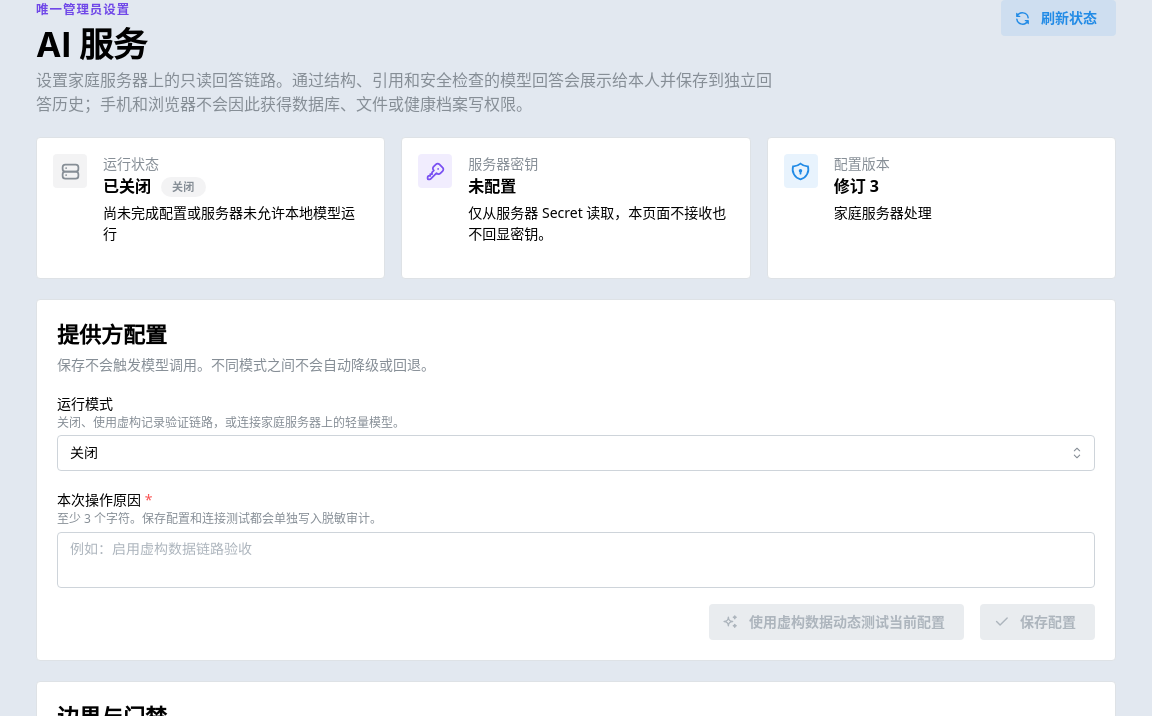
it: AdminHealthAiSettingsPage › saves a local provider by optimistic revision and reason
The width and height of the screenshot is (1152, 716).
Expected: the heading "AI 服务" is shown, [36,24,147,65]
Select "家庭服务器模型" in the dropdown labelled "运行模式": (576, 453) [57,435,1095,471]
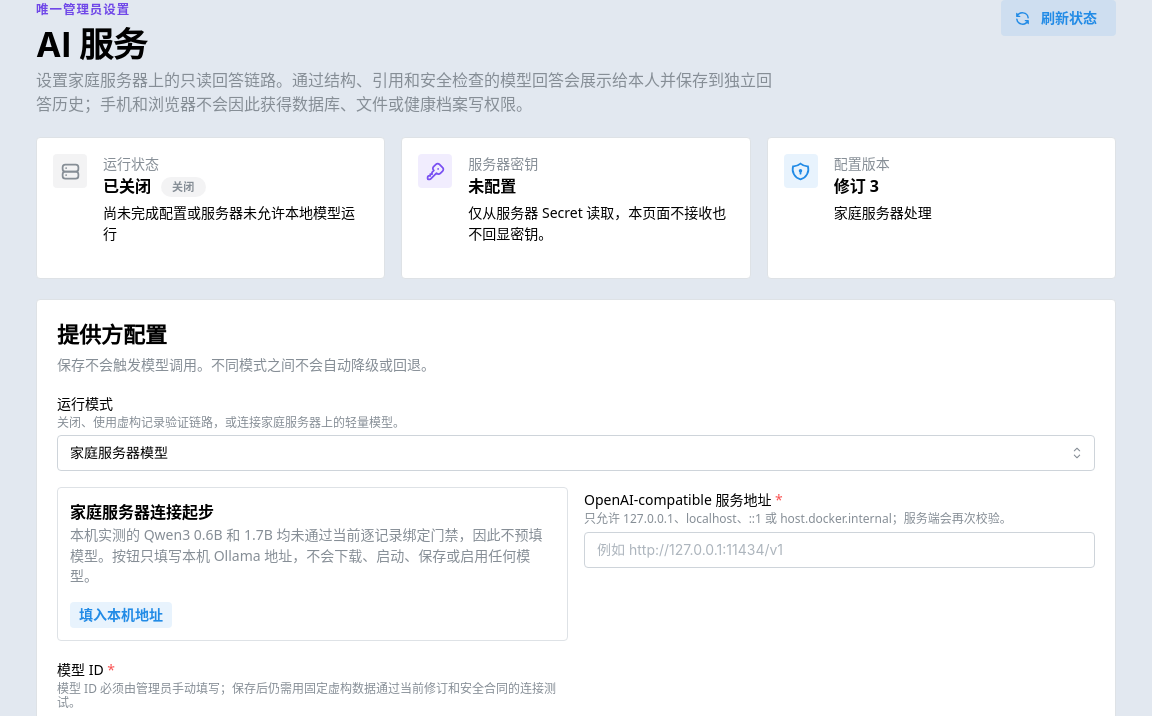
In the field labelled "OpenAI-compatible 服务地址 *": (840, 550) [584,532,1095,568], type "http://127.0.0.1:11434/v1"
(page scrolled)
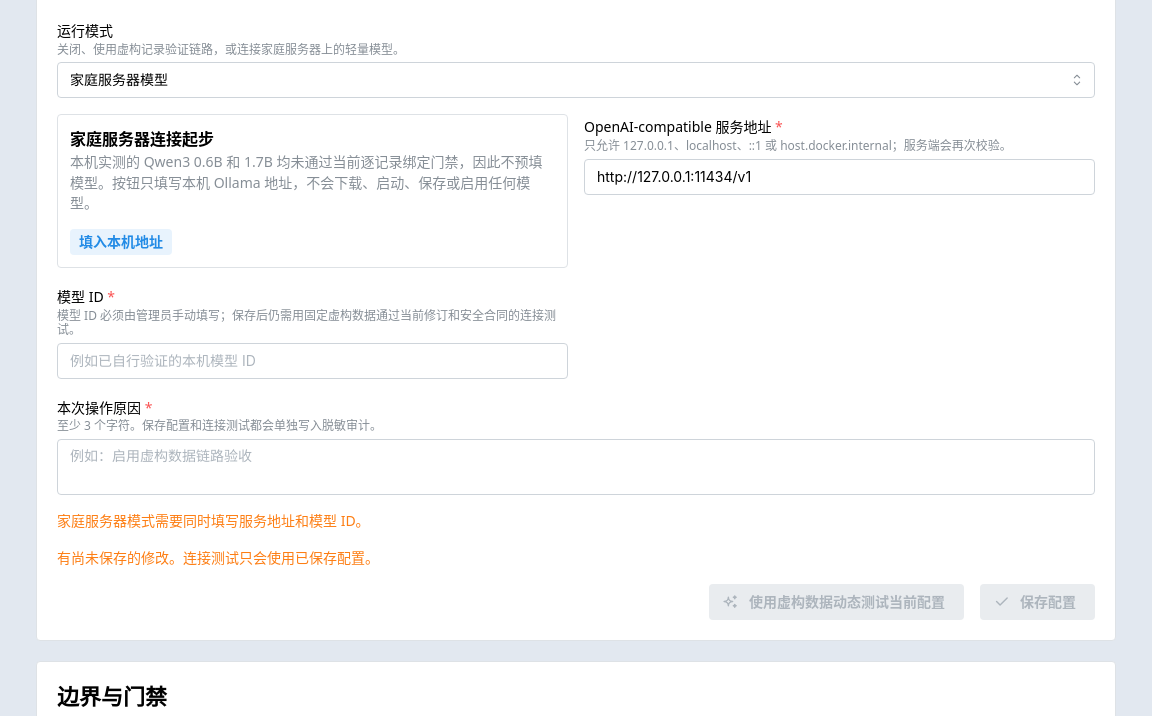
In the field labelled "模型 ID *": (312, 361) [57,343,568,379], type "small-local-model"
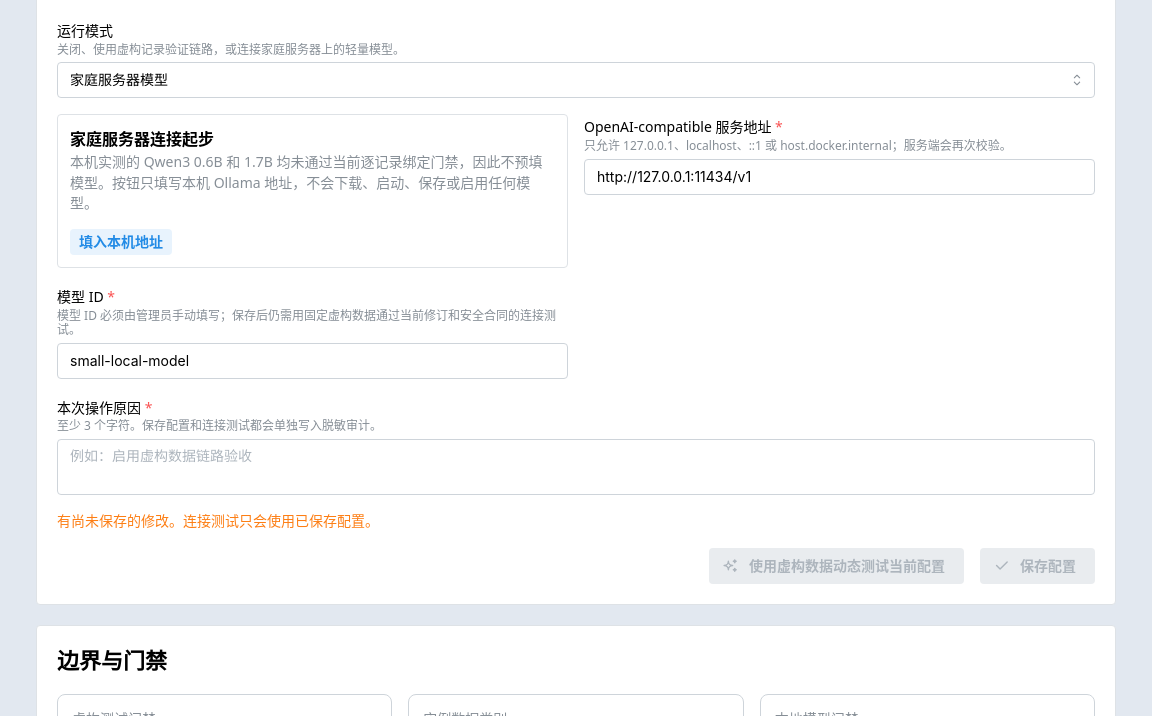
In the text box labelled "本次操作原因 *": (576, 467) [57,439,1095,495], type "切换轻量模型"
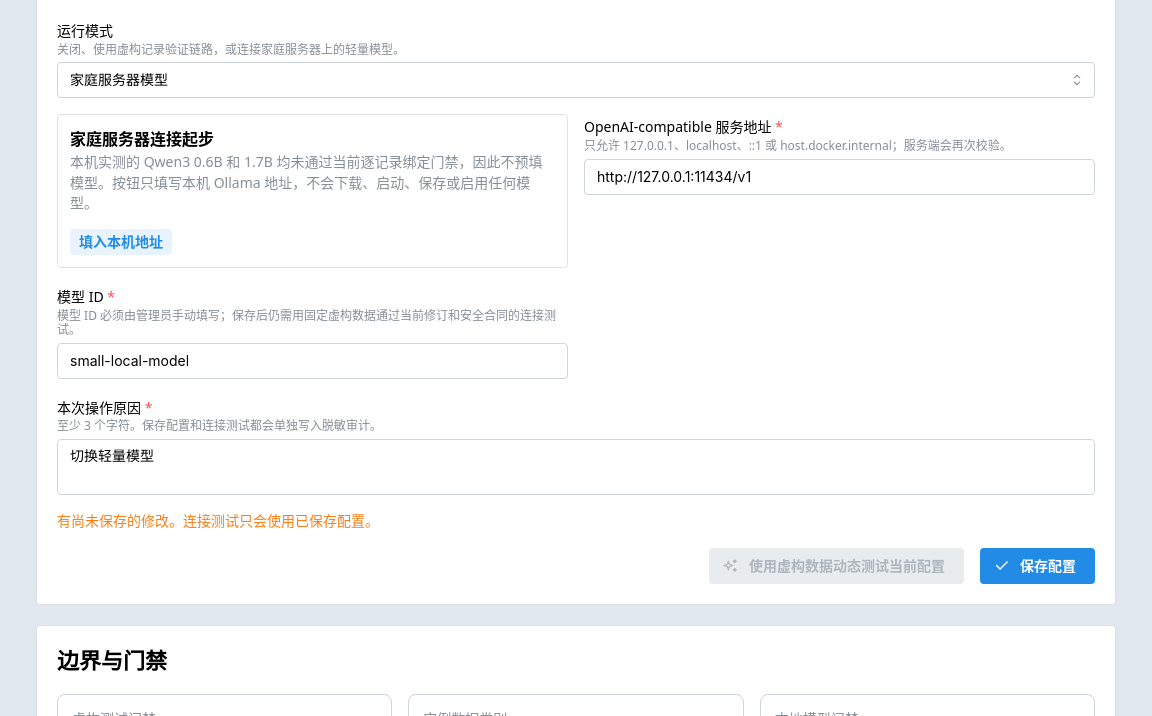
Click the button "保存配置": click(1038, 566) [980,548,1095,584]
(page scrolled)
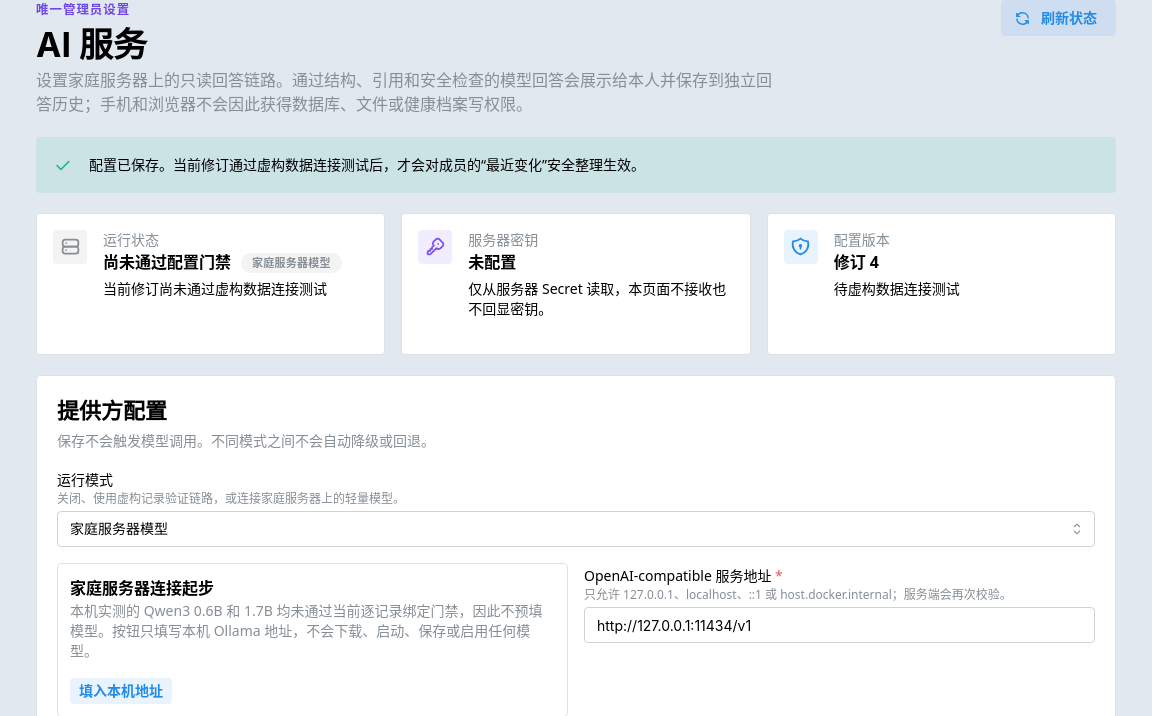
Result: the text "修订 4" is shown at [834,251,879,273]
Result: the text "待虚构数据连接测试" is shown at [834,279,960,299]
